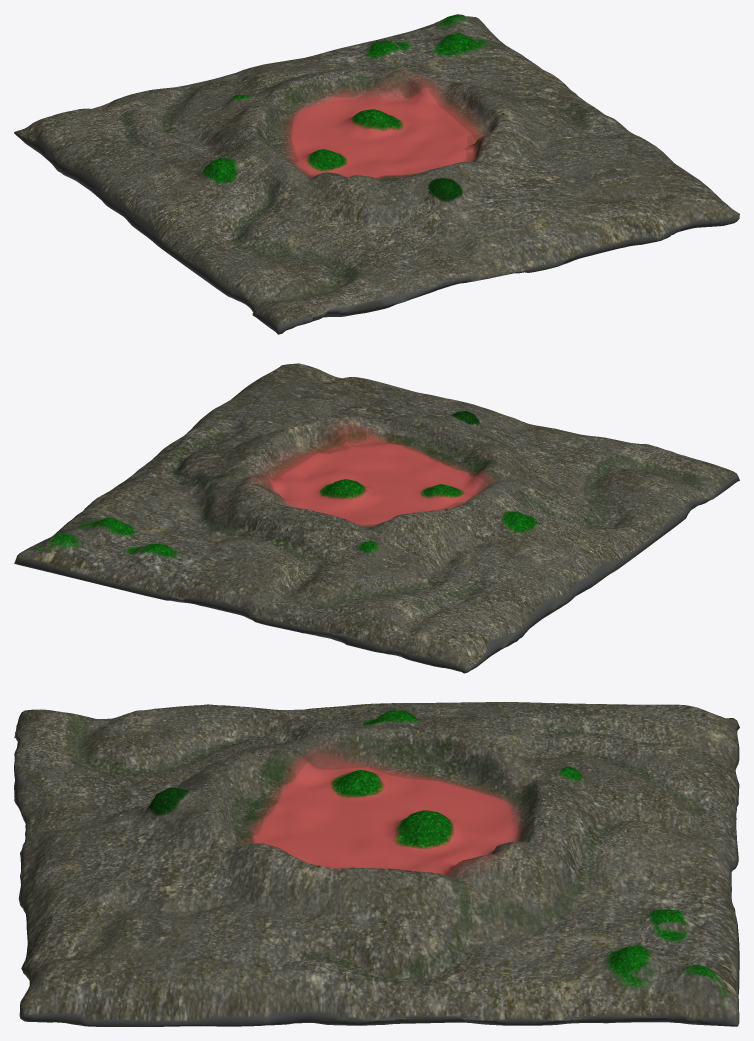
File: ManaSpout.fbx
3 renders of one model, top to bottom at view 1: azimuth 30°, elevation 25°; view 2: azimuth 150°, elevation 25°; view 3: azimuth 270°, elevation 25°, orthographic. The views are drawn at different scales.
Parts seen in each view (by area): view 1: ManaSpout; view 2: ManaSpout; view 3: ManaSpout.
Boxes of the visible parts, x1=… form: ManaSpout: x1=14, y1=14, x2=739, y2=334; ManaSpout: x1=14, y1=363, x2=739, y2=673; ManaSpout: x1=14, y1=702, x2=739, y2=1026.
Bounding box in the file's own units: 2.86 × 2.87 × 0.3652.
Materials: 1 (1 with a texture image).
